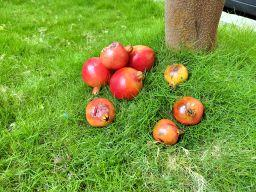pomegranate: (109, 68, 145, 101), (81, 56, 110, 94), (152, 118, 185, 146), (101, 41, 131, 71), (85, 98, 116, 127), (172, 97, 204, 124), (127, 45, 157, 71), (164, 63, 189, 89)
